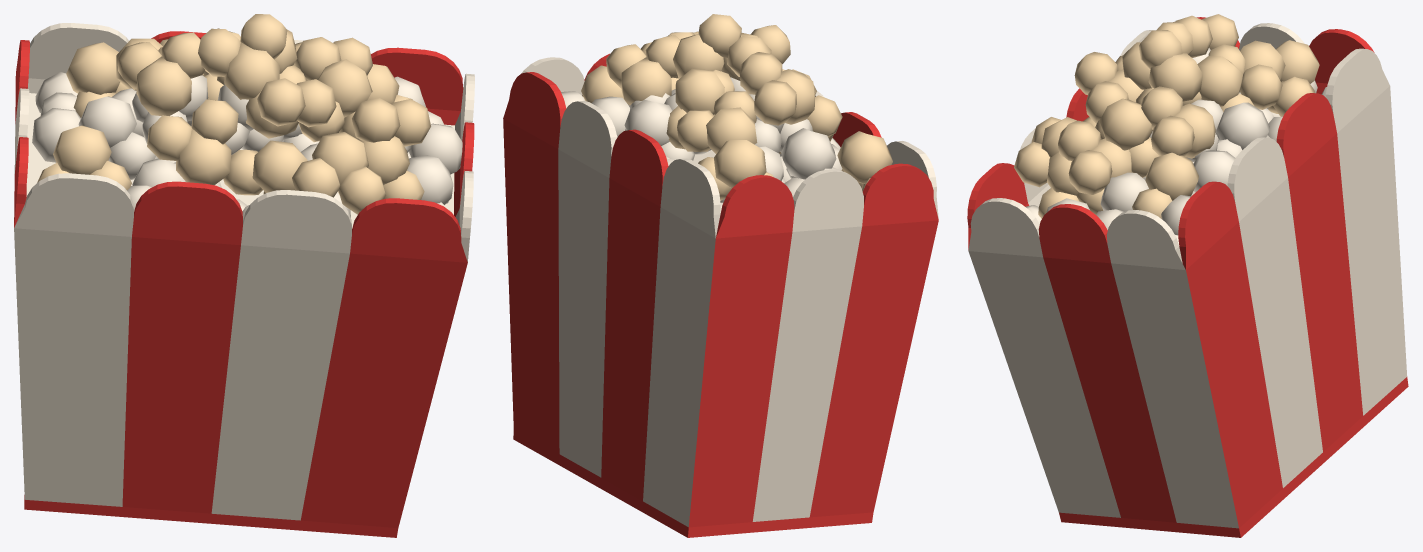
Rendered from popcorn.fbx.
3 renders of one model, left to right at view 1: azimuth 30°, elevation 25°; view 2: azimuth 150°, elevation 25°; view 3: azimuth 270°, elevation 25°, orthographic. The views are drawn at different scales.
Visible parts, largest first — view 1: Cube.416; view 2: Cube.416; view 3: Cube.416.
Part boxes in pixels (<box>): Cube.416: <box>14,14,474,537</box>; Cube.416: <box>503,14,938,537</box>; Cube.416: <box>967,14,1408,537</box>.
Size of the model in its own units: 201 by 207 by 182.
Materials: 1 (1 with a texture image).
